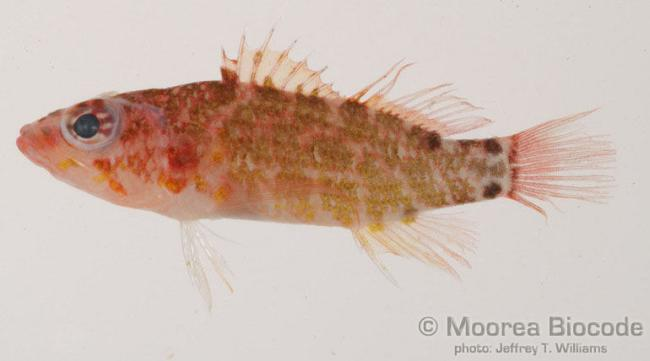fish: (17, 21, 615, 317)
